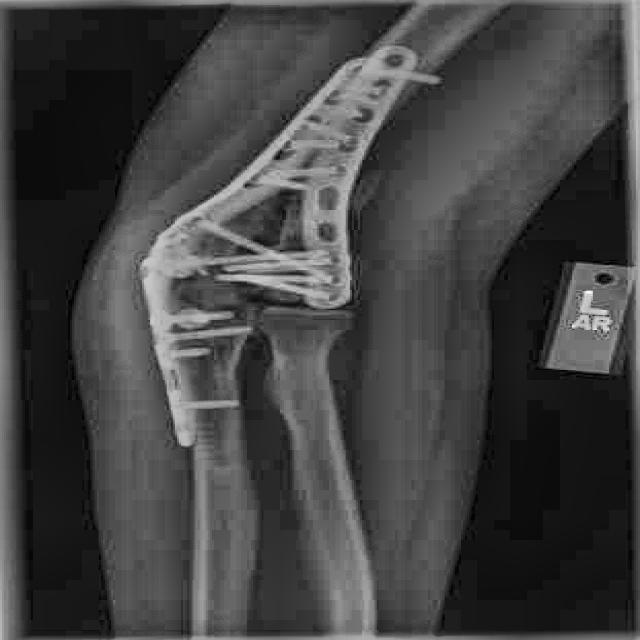elbow positive: (236, 203, 306, 249)
